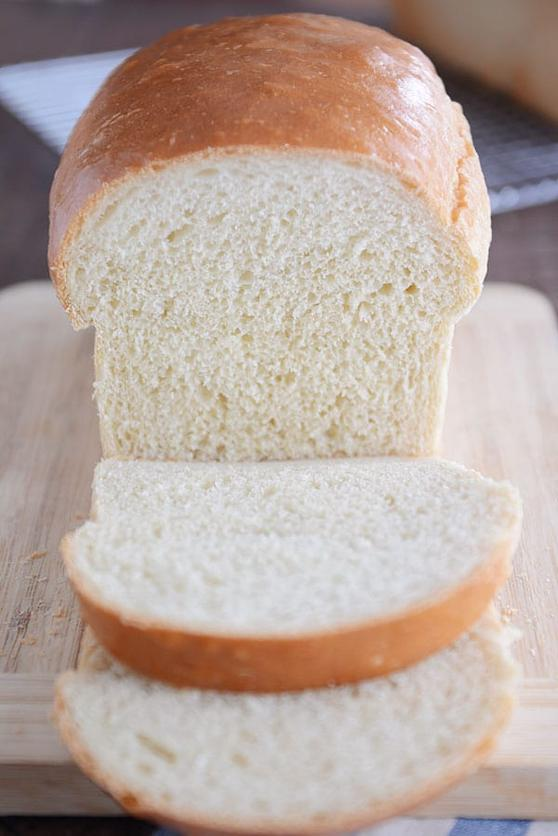white_bread: (52, 13, 490, 455)
